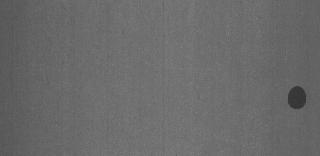oil spot: (284, 79, 310, 113)
